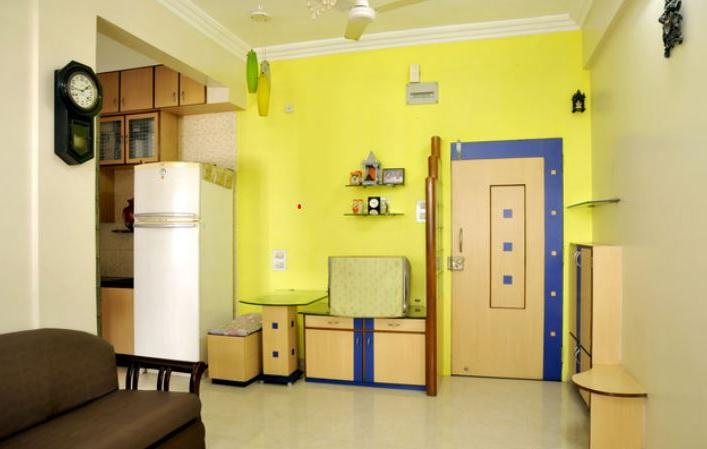clock: (56, 69, 104, 116)
door: (448, 145, 544, 381)
fan: (306, 0, 435, 47)
light: (250, 7, 270, 22)
sofa: (0, 329, 209, 448)
table: (240, 277, 326, 399), (307, 304, 425, 388), (574, 363, 646, 449), (200, 313, 257, 392)
